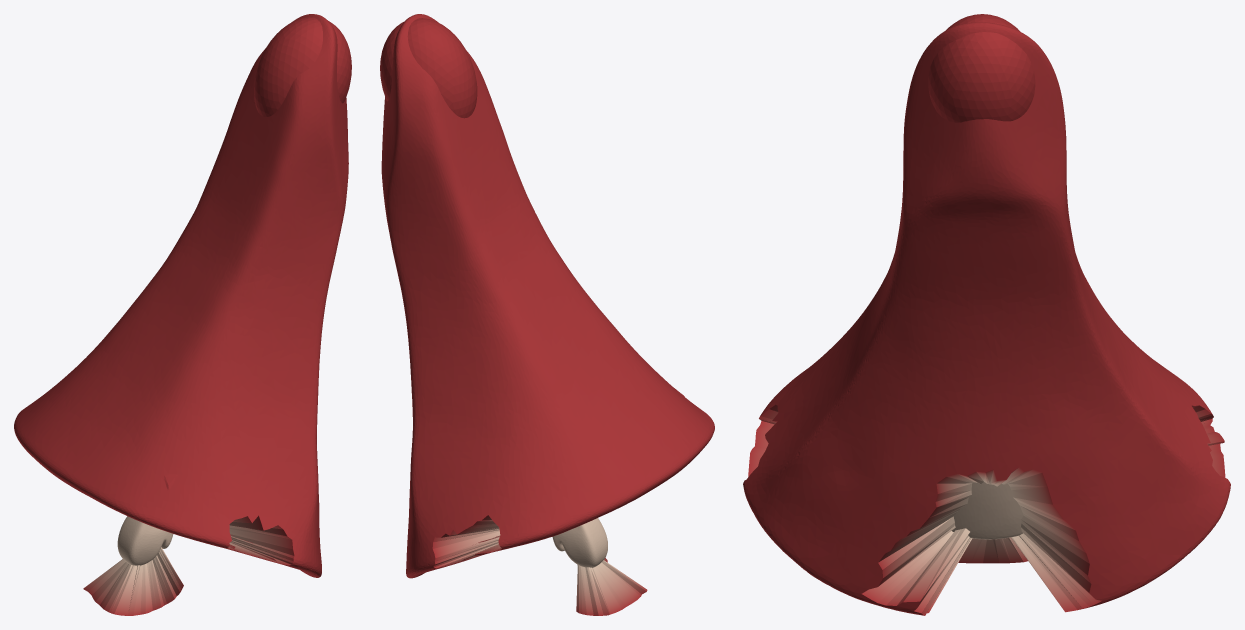
The model's file is arm_R.glb.
3 renders of one model, left to right at view 1: azimuth 30°, elevation 25°; view 2: azimuth 150°, elevation 25°; view 3: azimuth 270°, elevation 25°, orthographic. The views are drawn at different scales.
Visible parts, largest first — view 1: geometry_0; view 2: geometry_0; view 3: geometry_0.
Boxes of the visible parts, left/top/right/bottom form: geometry_0: left=14, top=14, right=351, bottom=615; geometry_0: left=380, top=14, right=714, bottom=615; geometry_0: left=743, top=14, right=1230, bottom=615.
Bounding box in the file's own units: 0.3514 × 0.6166 × 0.4163.
